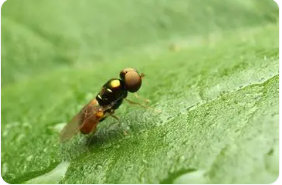liriomyza: (56, 67, 160, 142)
